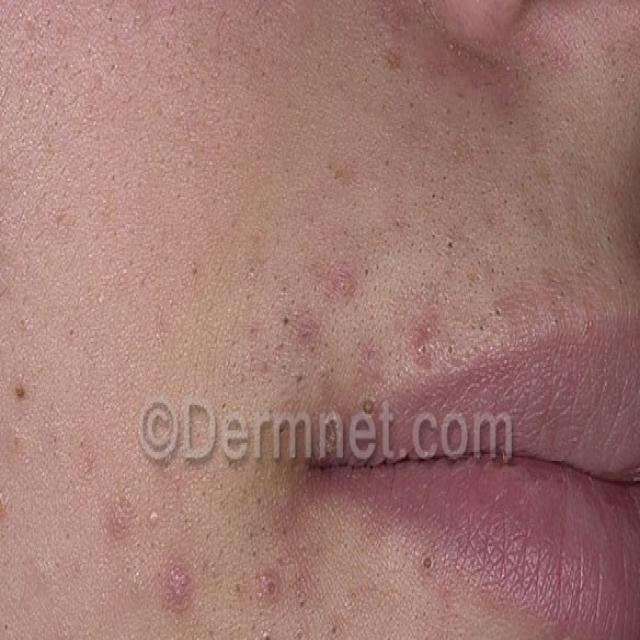Acne: (0, 367, 273, 640), (288, 210, 480, 384)
